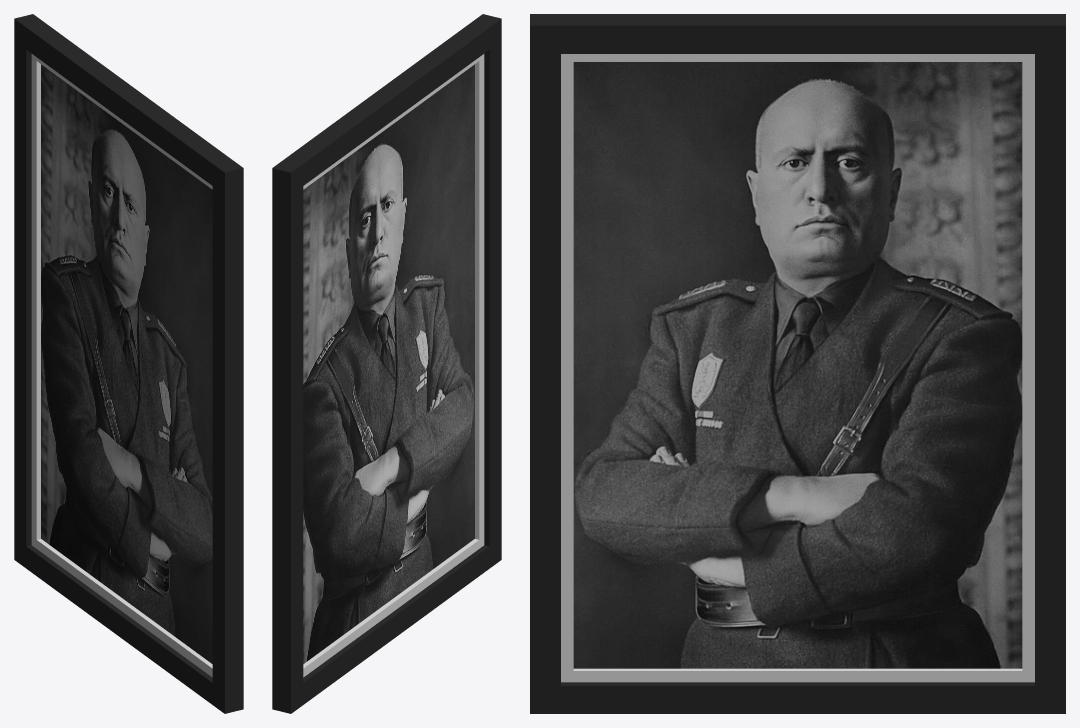
File: potrait_benito1.fbx
The picture shows the model from 3 angles, left to right: view 1: azimuth 30°, elevation 25°; view 2: azimuth 150°, elevation 25°; view 3: azimuth 270°, elevation 25°; orthographic projection. The views are drawn at different scales.
Parts seen in each view (by area): view 1: benito painting; view 2: benito painting; view 3: benito painting.
Boxes of the visible parts, left/top/right/bottom form: benito painting: left=14, top=14, right=243, bottom=713; benito painting: left=272, top=14, right=501, bottom=713; benito painting: left=530, top=14, right=1065, bottom=713.
Size of the model in its own units: 3.04 by 82.83 by 58.45.
Materials: 3 (1 with a texture image).
